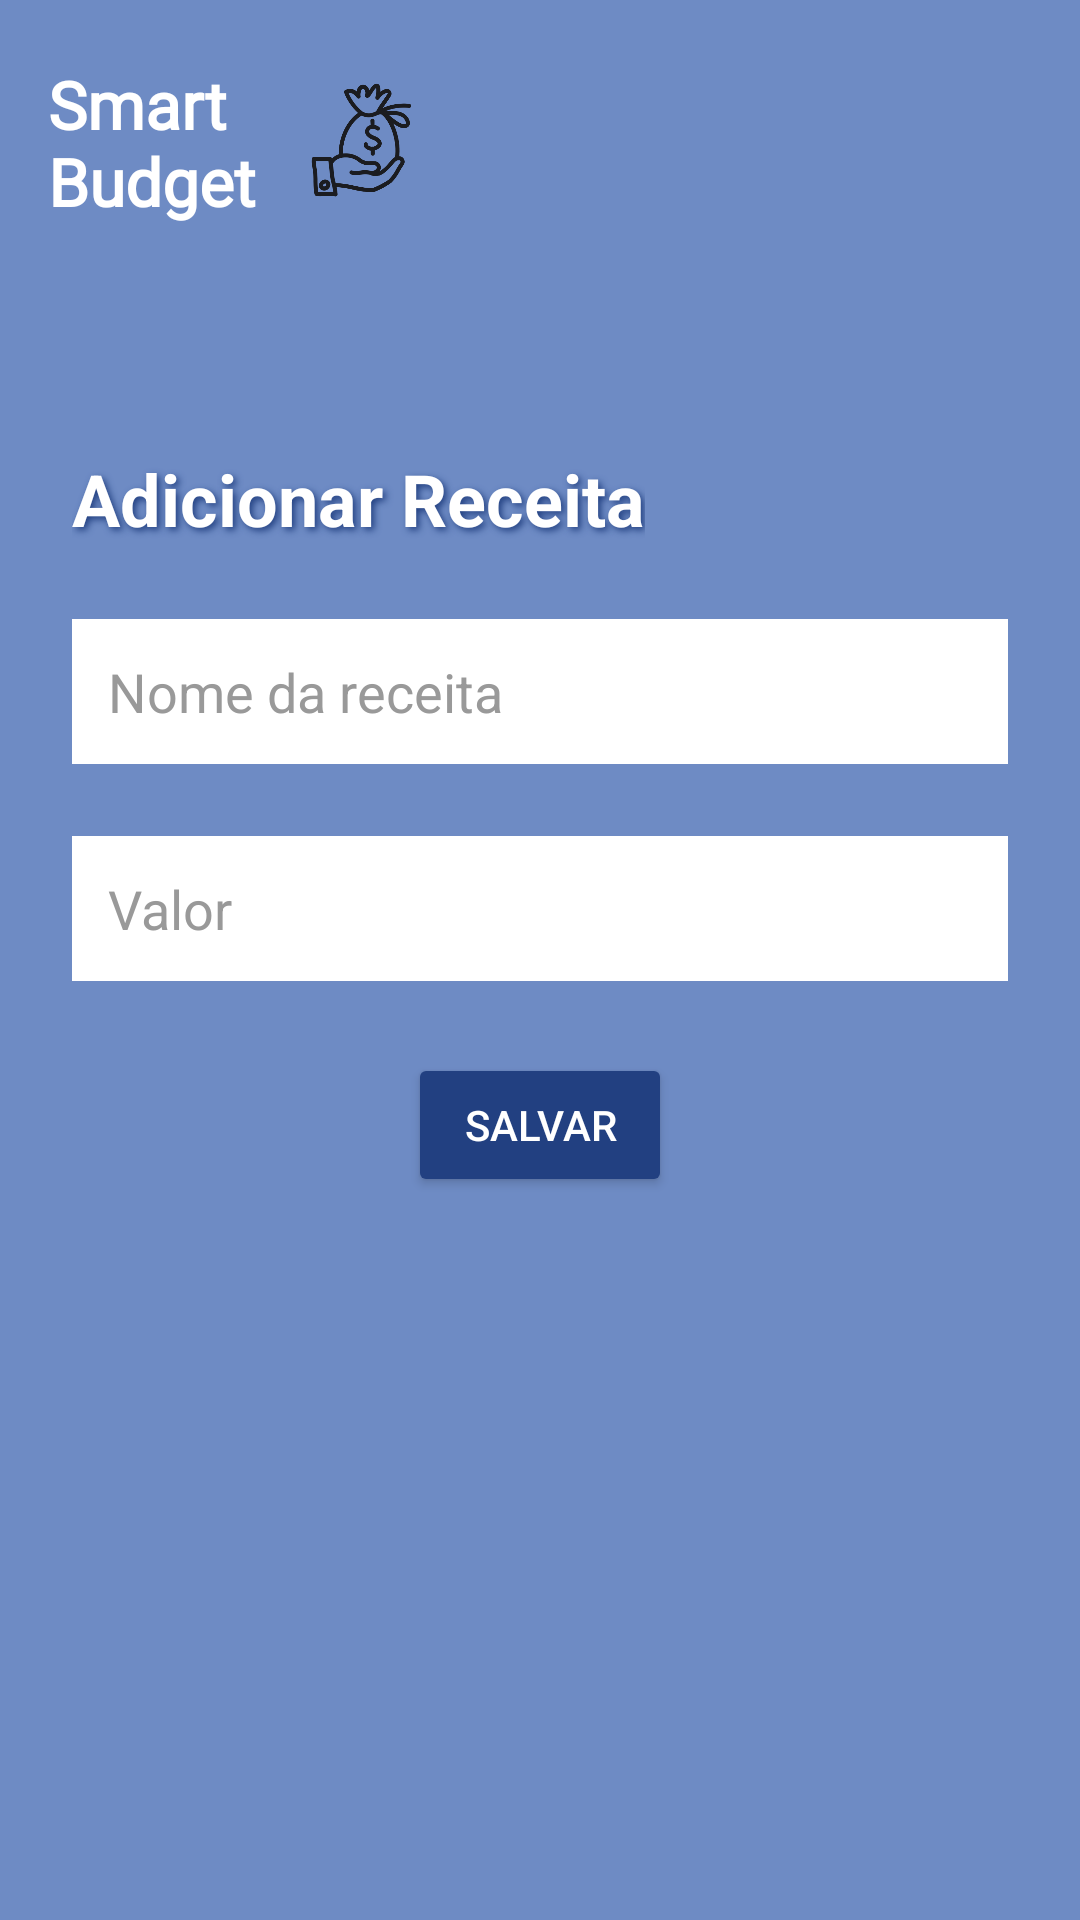

Icon click points for this 1080x1920 phone screenshot, format (x,y):
money savings save: (361,140)
